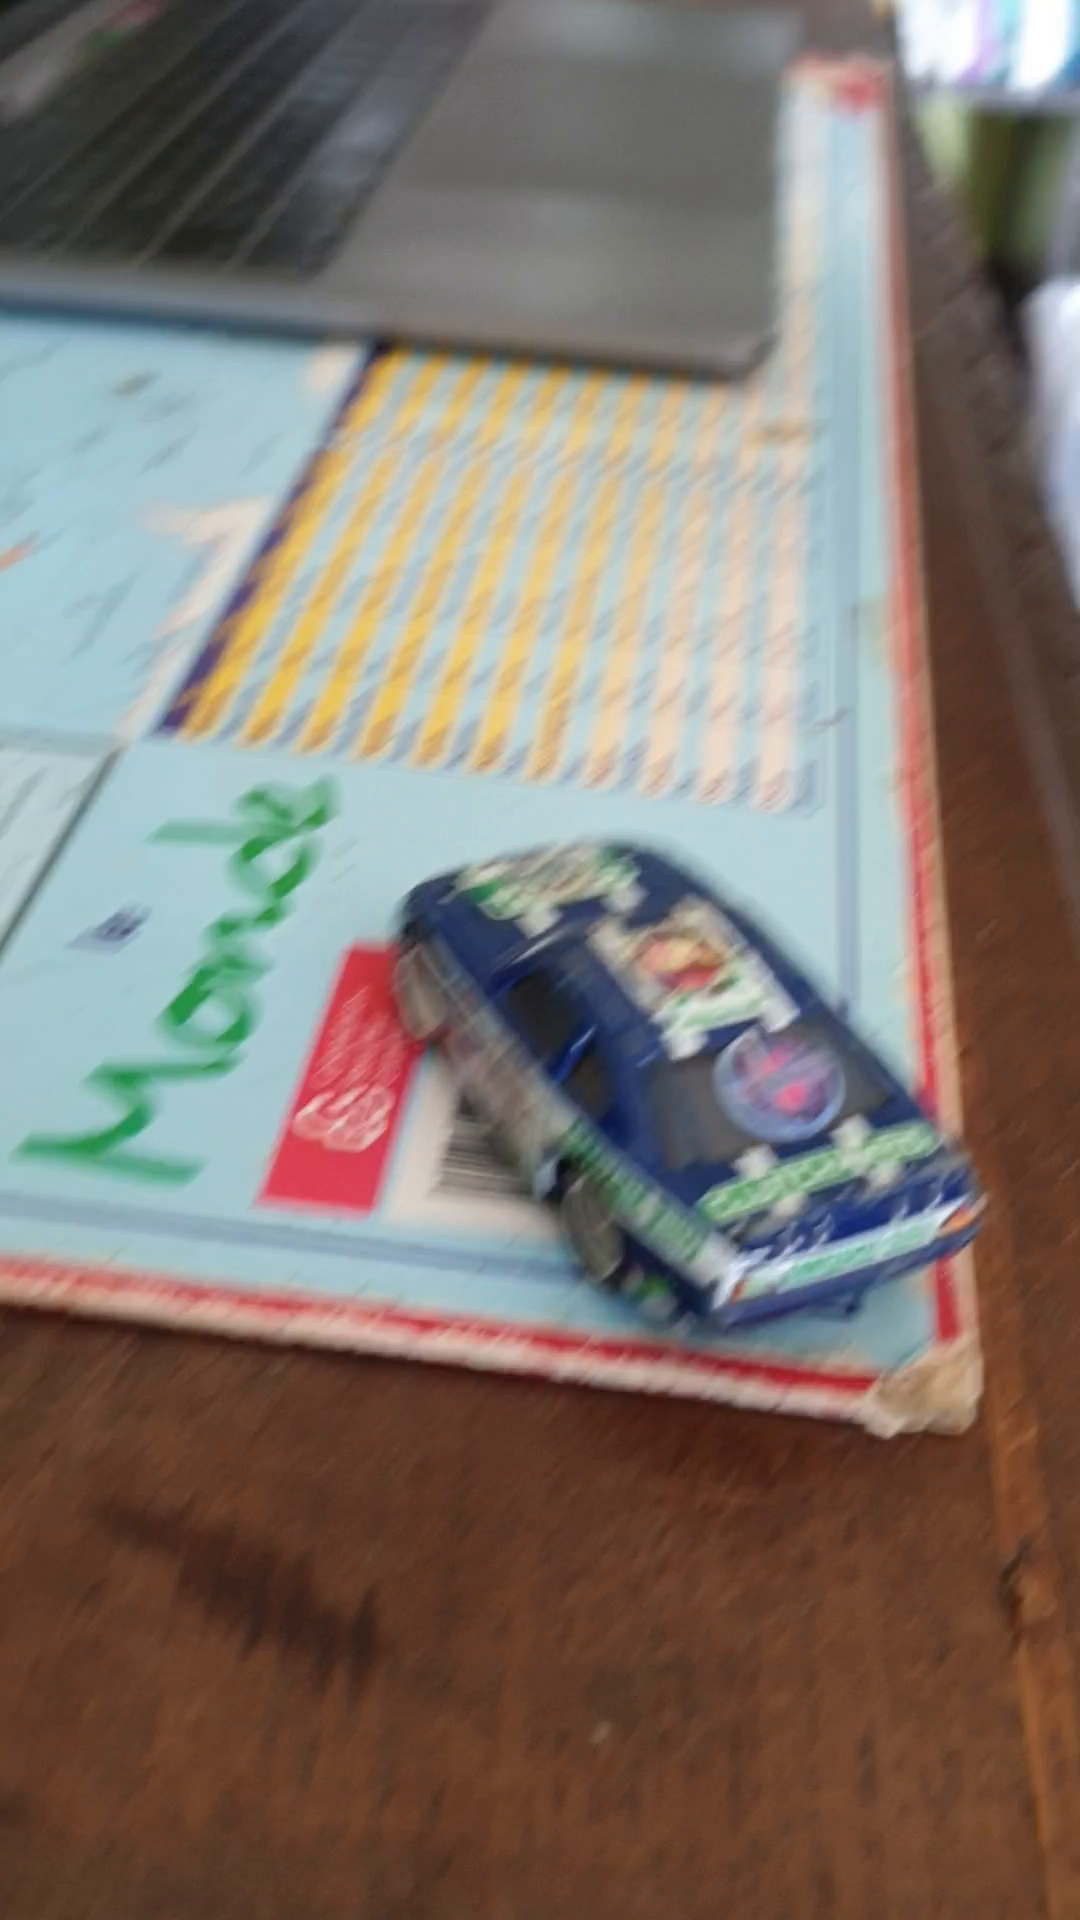cars: (385, 839, 988, 1335)
